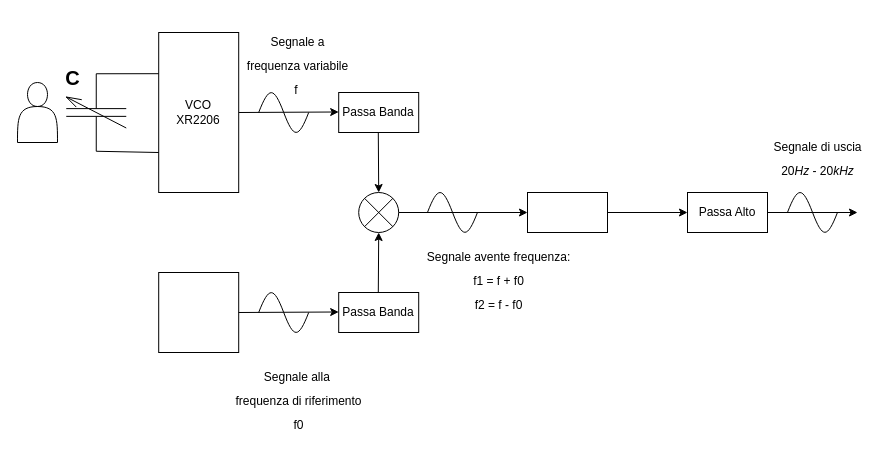
The diagram is 885 pixels wide and 459 high, and some of its shapes have lost their labels. Each missing label, with the centre of its shape:
Oscillatore di Wien: (x=198, y=312)
Passa Basso: (x=567, y=212)
